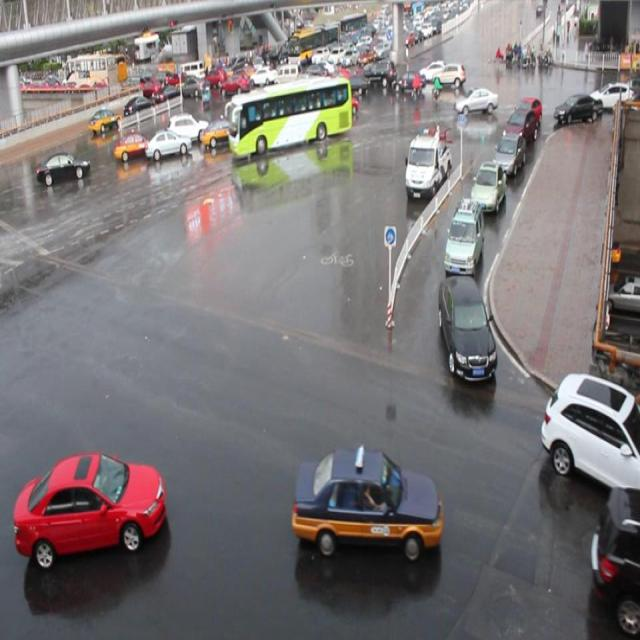bus: (402, 129, 452, 202)
car: (13, 452, 166, 566), (292, 443, 442, 558), (540, 373, 640, 491), (591, 485, 640, 629), (438, 274, 495, 382), (443, 199, 483, 273), (36, 146, 89, 184), (252, 96, 302, 133), (199, 112, 247, 150), (469, 160, 504, 212), (144, 126, 192, 160), (166, 108, 209, 144), (490, 132, 525, 176), (507, 106, 539, 150), (453, 87, 497, 116), (113, 129, 153, 158), (318, 90, 355, 117), (517, 94, 543, 132)
truck: (288, 75, 332, 115), (228, 90, 271, 128)
van: (228, 78, 349, 148)
